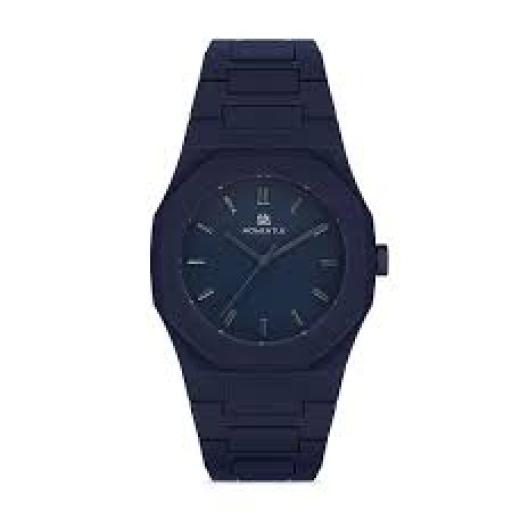KolSaati: (102, 14, 419, 500)
